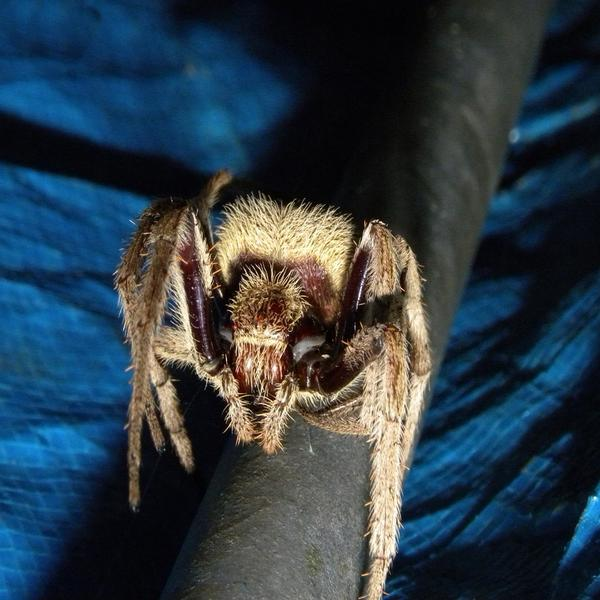Garden_Orb_Weaver_Spider: (112, 168, 433, 600)
